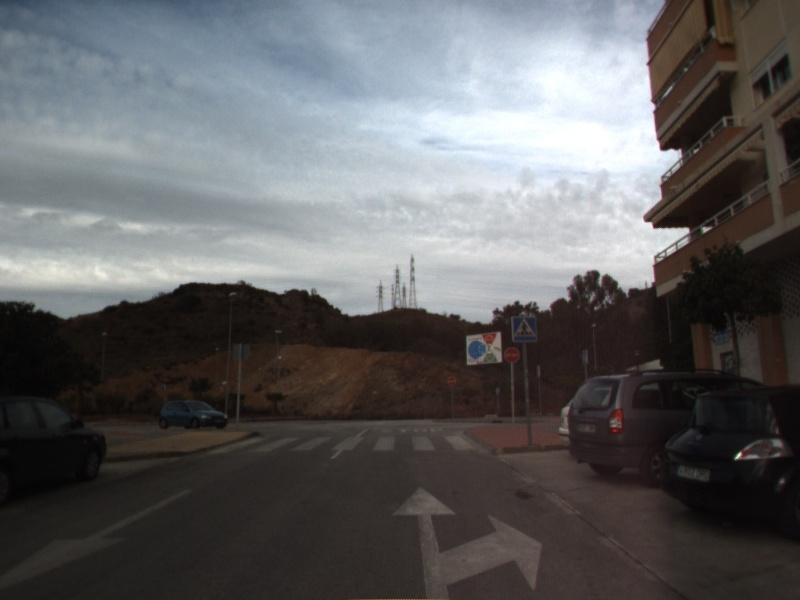STRAIGHT_RIGHT: (389, 483, 545, 600)
